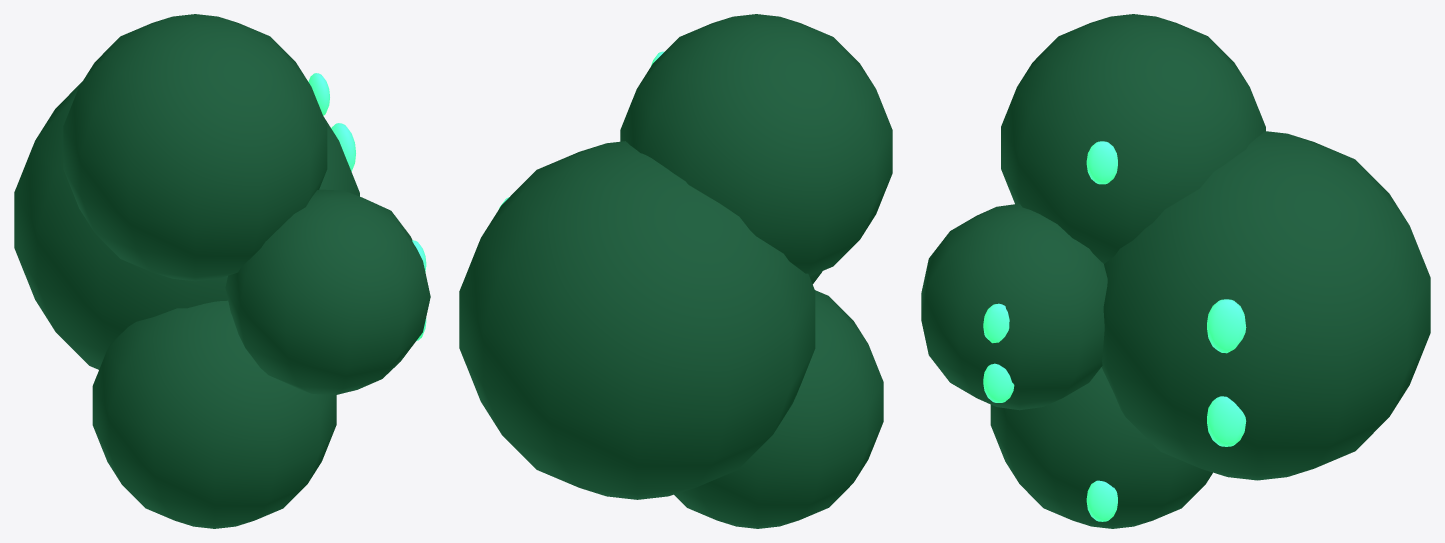
The model's file is trauma-nalog.glb.
3 renders of one model, left to right at view 1: azimuth 30°, elevation 25°; view 2: azimuth 150°, elevation 25°; view 3: azimuth 270°, elevation 25°, orthographic. The views are drawn at different scales.
Parts seen in each view (by area): view 1: Shadow, Glow; view 2: Shadow; view 3: Shadow, Glow.
Boxes of the visible parts, x1,y1,x2,y2 form: Shadow: [14, 14, 430, 528]; Glow: [308, 73, 426, 340]; Shadow: [459, 14, 892, 528]; Shadow: [921, 14, 1430, 528]; Glow: [983, 141, 1246, 521].
Size of the model in its own units: 0.7111 by 1.04 by 0.985.
